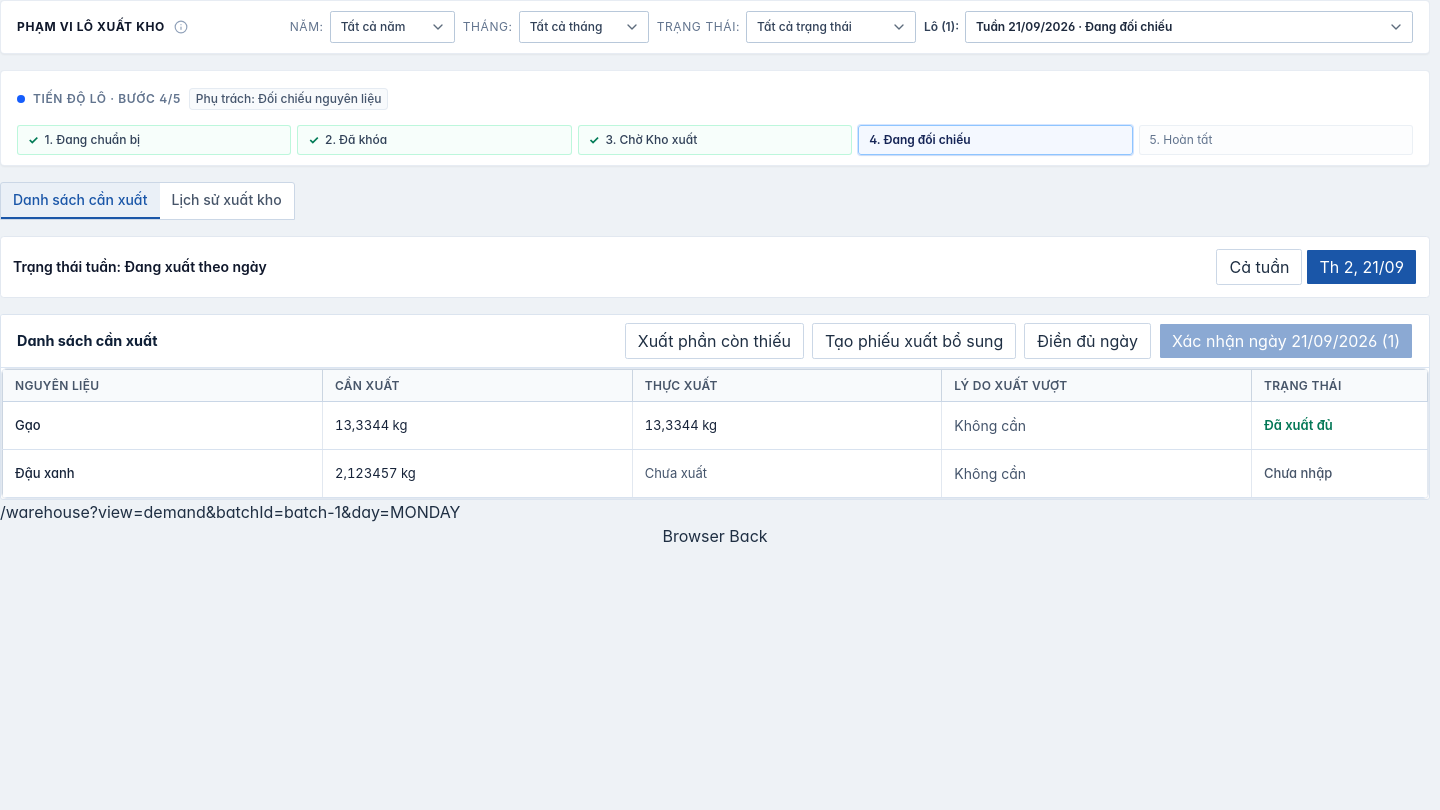
Warehouse reconciliation issue detail preserve-context behavior › does not calculate from loading dish data
This screenshot has width=1440, height=810.
Click the button "Tạo phiếu xuất bổ sung": (914, 341) 812,323 -> 1016,359
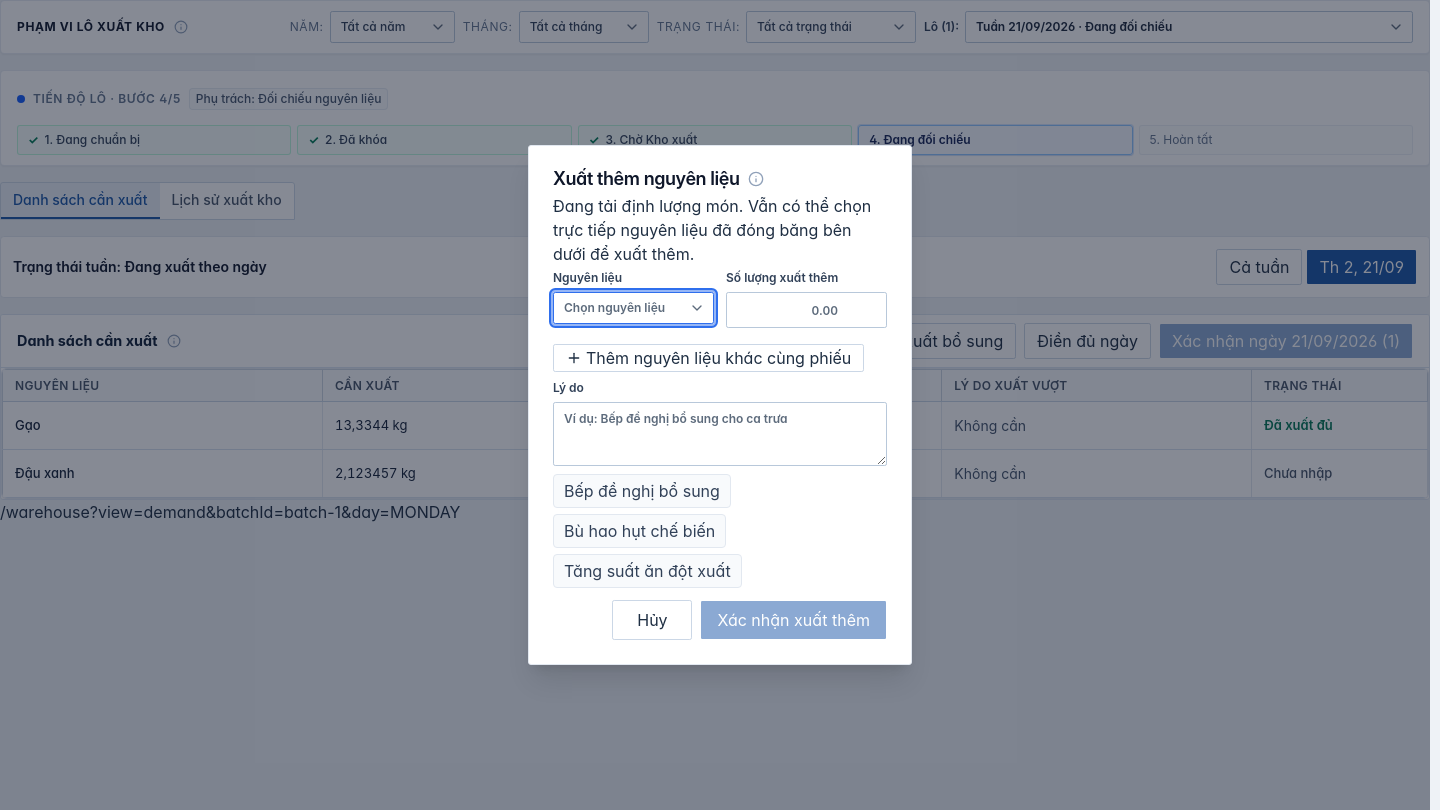
Check: the dropdown named "Chọn nguyên liệu xuất thêm" is shown, box 553,292 -> 714,324
